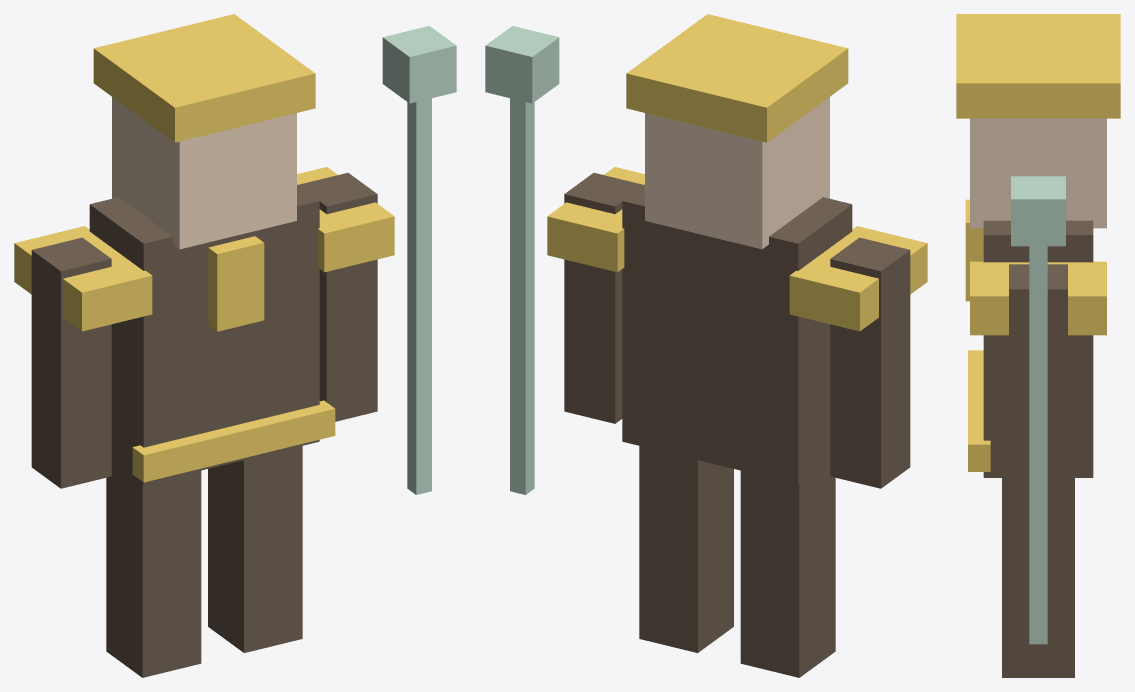
File: 04_juno_voxmere_fixer_of_transit.glb
3 renders of one model, left to right at view 1: azimuth 30°, elevation 25°; view 2: azimuth 150°, elevation 25°; view 3: azimuth 270°, elevation 25°, orthographic.
Parts seen in each view (by area): view 1: Juno Voxmere, Fixer of Transit; view 2: Juno Voxmere, Fixer of Transit; view 3: Juno Voxmere, Fixer of Transit.
Part boxes in pixels (x1,y1,x2,y2): Juno Voxmere, Fixer of Transit: [14, 14, 456, 677]; Juno Voxmere, Fixer of Transit: [485, 14, 927, 677]; Juno Voxmere, Fixer of Transit: [956, 14, 1120, 677].
Bounding box in the file's own units: 1.1 × 1.54 × 0.3885.
